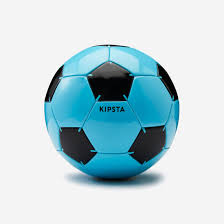football ball: (43, 43, 181, 181)
